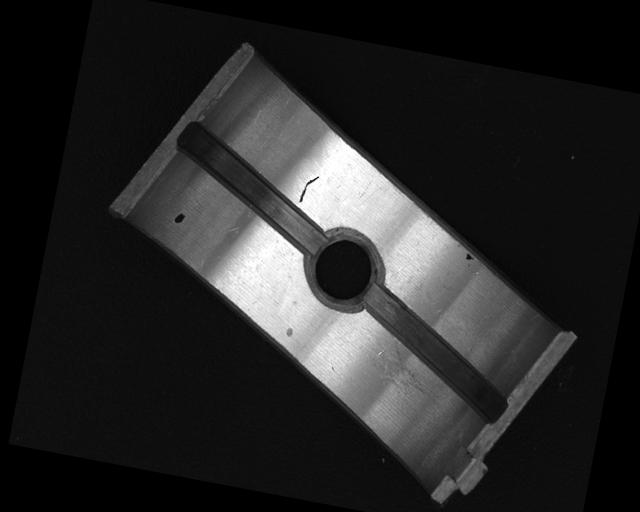blot: (172, 210, 186, 225), (463, 251, 475, 262)
bruise: (284, 324, 295, 338)
gap: (346, 281, 521, 424), (168, 123, 337, 257)
hole: (302, 224, 388, 313)
nick: (297, 173, 319, 206)
scratch: (369, 334, 453, 410)
